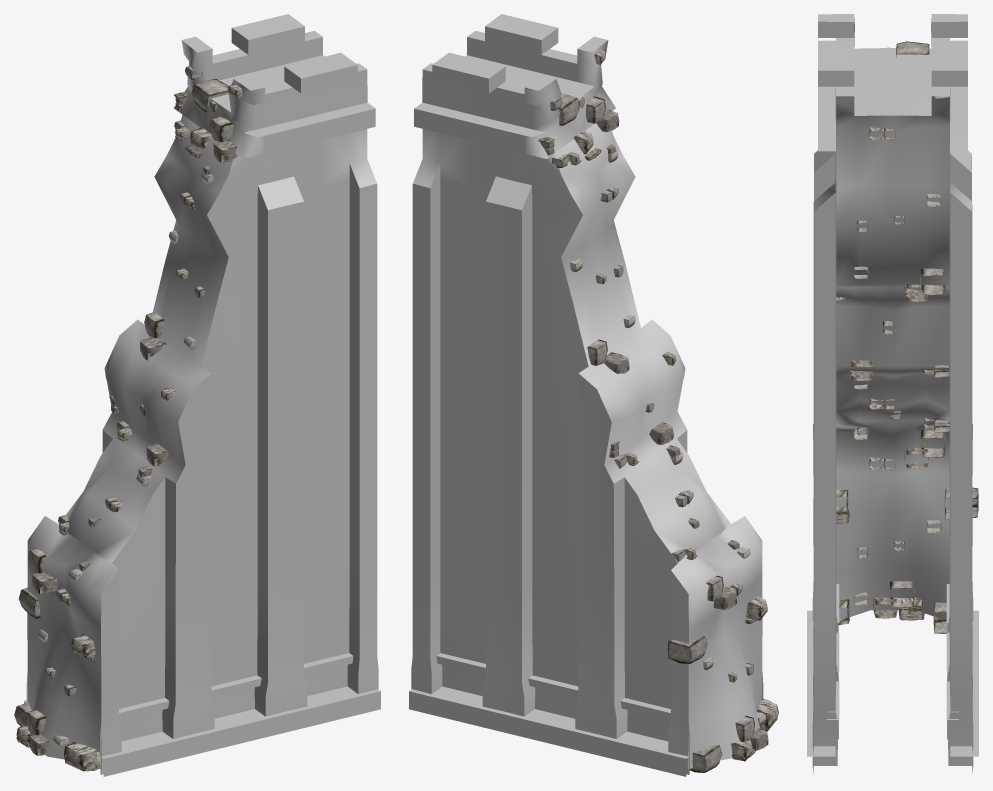
File: rampartBrokenLod1.FBX
The picture shows the model from 3 angles, left to right: view 1: azimuth 30°, elevation 25°; view 2: azimuth 150°, elevation 25°; view 3: azimuth 270°, elevation 25°; orthographic projection. The views are drawn at different scales.
Parts seen in each view (by area): view 1: rampartBrokenLod1; view 2: rampartBrokenLod1; view 3: rampartBrokenLod1.
Boxes of the visible parts, bbox=[...] form: rampartBrokenLod1: bbox=[14, 14, 380, 776]; rampartBrokenLod1: bbox=[409, 14, 778, 776]; rampartBrokenLod1: bbox=[807, 14, 978, 773].
Bounding box in the file's own units: 2684 × 1178 × 5271.
